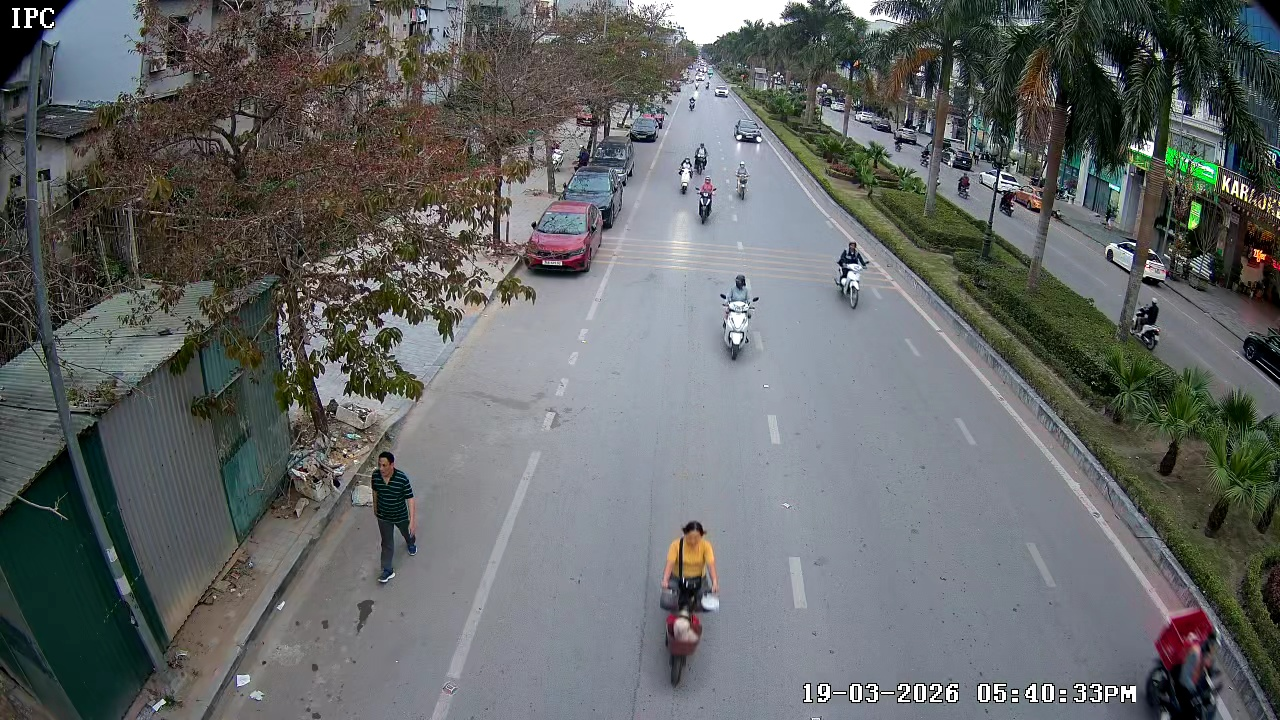car: (524, 200, 599, 276), (734, 117, 763, 145)
motorbike: (655, 516, 722, 691), (717, 274, 760, 360), (831, 238, 869, 310), (698, 174, 718, 223), (693, 143, 712, 177), (738, 159, 753, 199), (679, 156, 692, 193)
pedestrian: (369, 449, 421, 585)
